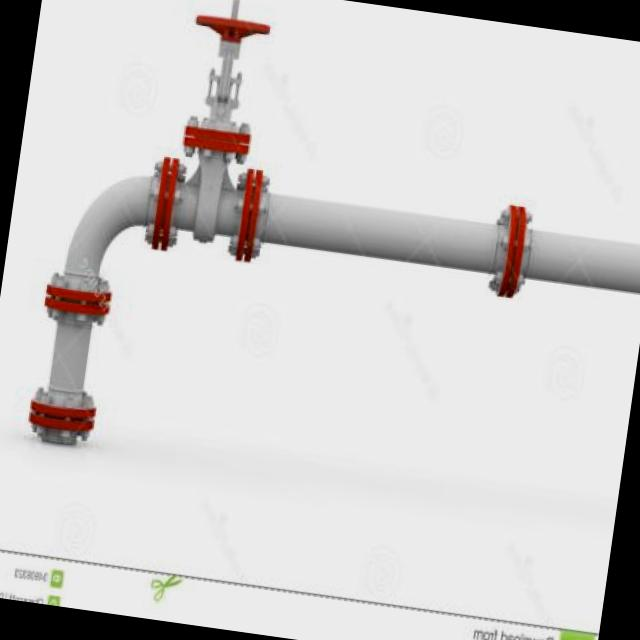gas: (65, 158, 640, 344), (20, 146, 188, 459)
